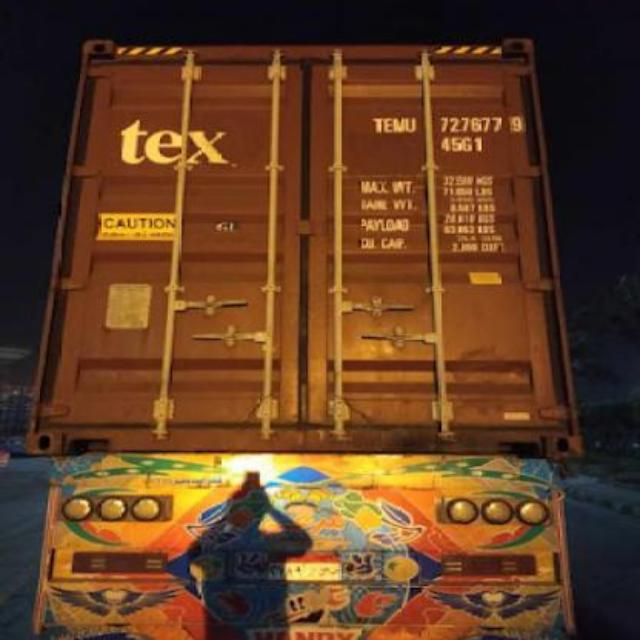2: (446, 112, 458, 136)
6: (468, 111, 482, 132)
7: (432, 106, 446, 136), (488, 110, 502, 136), (456, 109, 468, 135), (480, 112, 492, 136)
9: (510, 114, 526, 136)
E: (381, 109, 394, 135)
M: (394, 112, 406, 136)
T: (366, 108, 379, 136)
U: (404, 110, 418, 138)
